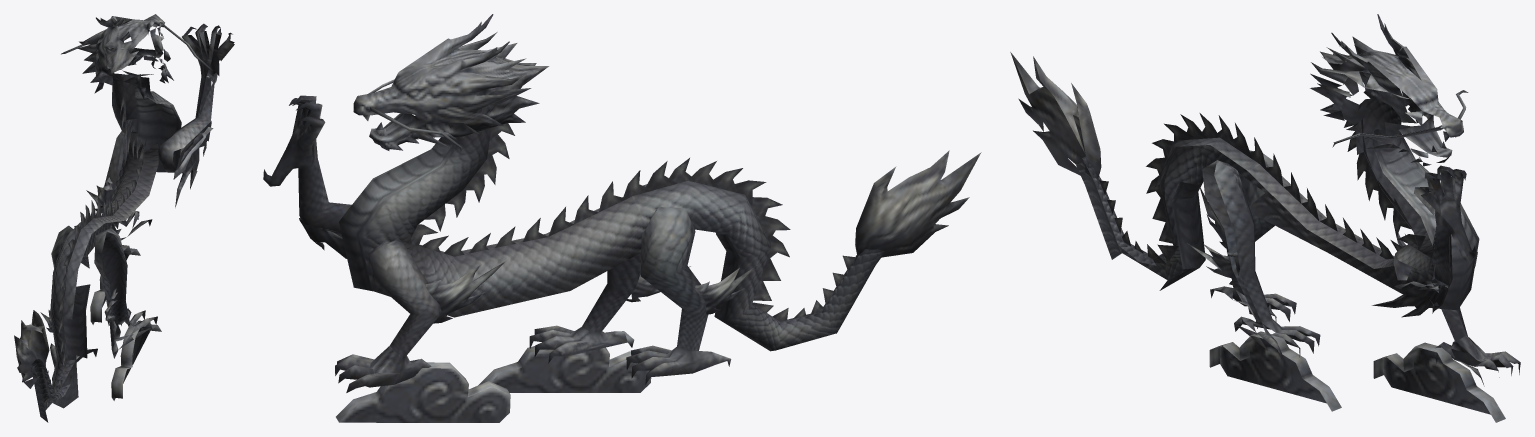
The model's file is S2_Build_XSC091_H2.FBX.
3 renders of one model, left to right at view 1: azimuth 30°, elevation 25°; view 2: azimuth 150°, elevation 25°; view 3: azimuth 270°, elevation 25°, orthographic. The views are drawn at different scales.
Visible parts, largest first — view 1: S2_Build_XSC091_H2; view 2: S2_Build_XSC091_H2; view 3: S2_Build_XSC091_H2.
Boxes of the visible parts, x1=… form: S2_Build_XSC091_H2: x1=14, y1=14, x2=234, y2=422; S2_Build_XSC091_H2: x1=263, y1=14, x2=981, y2=422; S2_Build_XSC091_H2: x1=1010, y1=14, x2=1520, y2=422.
Size of the model in its own units: 1103 by 862 by 1026.
